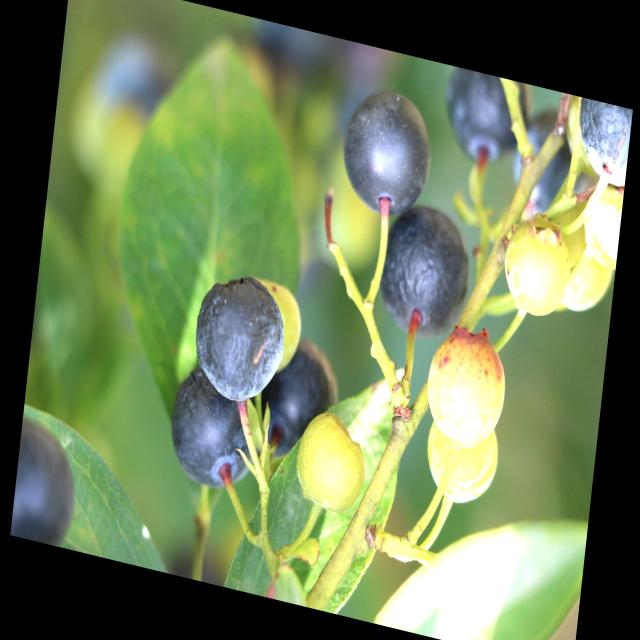blueberry: (369, 194, 477, 345), (183, 262, 291, 411), (336, 81, 443, 227), (159, 359, 262, 510), (250, 322, 345, 482), (438, 65, 528, 180), (10, 424, 83, 549), (510, 115, 582, 221), (568, 99, 632, 197)
blueberry-halfripe: (419, 323, 512, 457)
blueberry-unripe: (491, 210, 576, 327), (420, 416, 504, 513), (293, 410, 365, 520), (546, 205, 616, 317), (574, 176, 624, 266)
